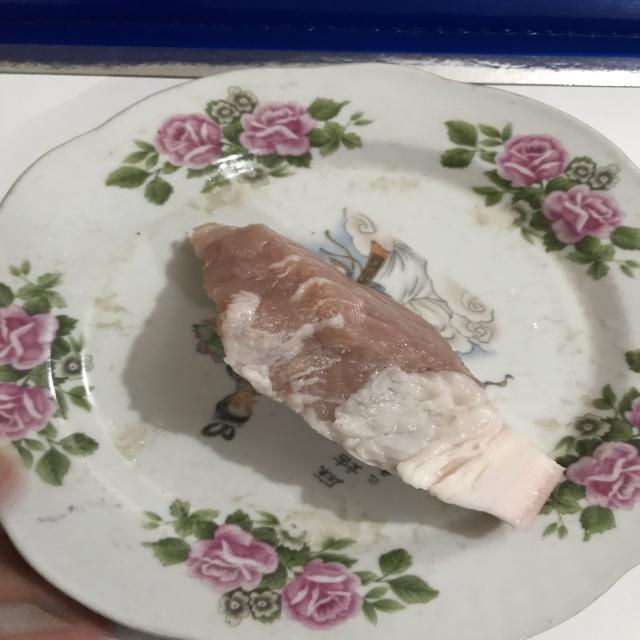chicken: (188, 225, 568, 533)
